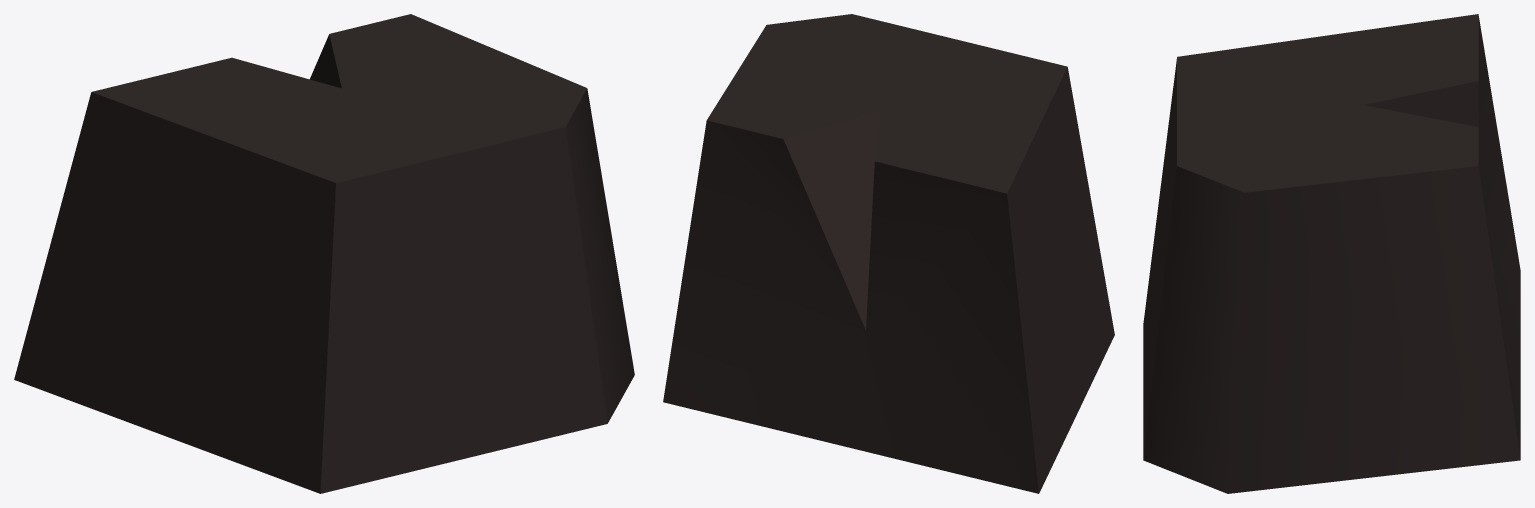
File: Rock 07.FBX
3 views of the same model, side by side, from view 1: azimuth 30°, elevation 25°; view 2: azimuth 150°, elevation 25°; view 3: azimuth 270°, elevation 25° (orthographic). The views are drawn at different scales.
Visible parts, largest first — view 1: Box001; view 2: Box001; view 3: Box001.
Part boxes in pixels (left/top/right/bottom): Box001: left=14, top=14, right=634, bottom=493; Box001: left=663, top=14, right=1114, bottom=493; Box001: left=1143, top=14, right=1520, bottom=493.
Bounding box in the file's own units: 46.36 × 27.31 × 33.02.
